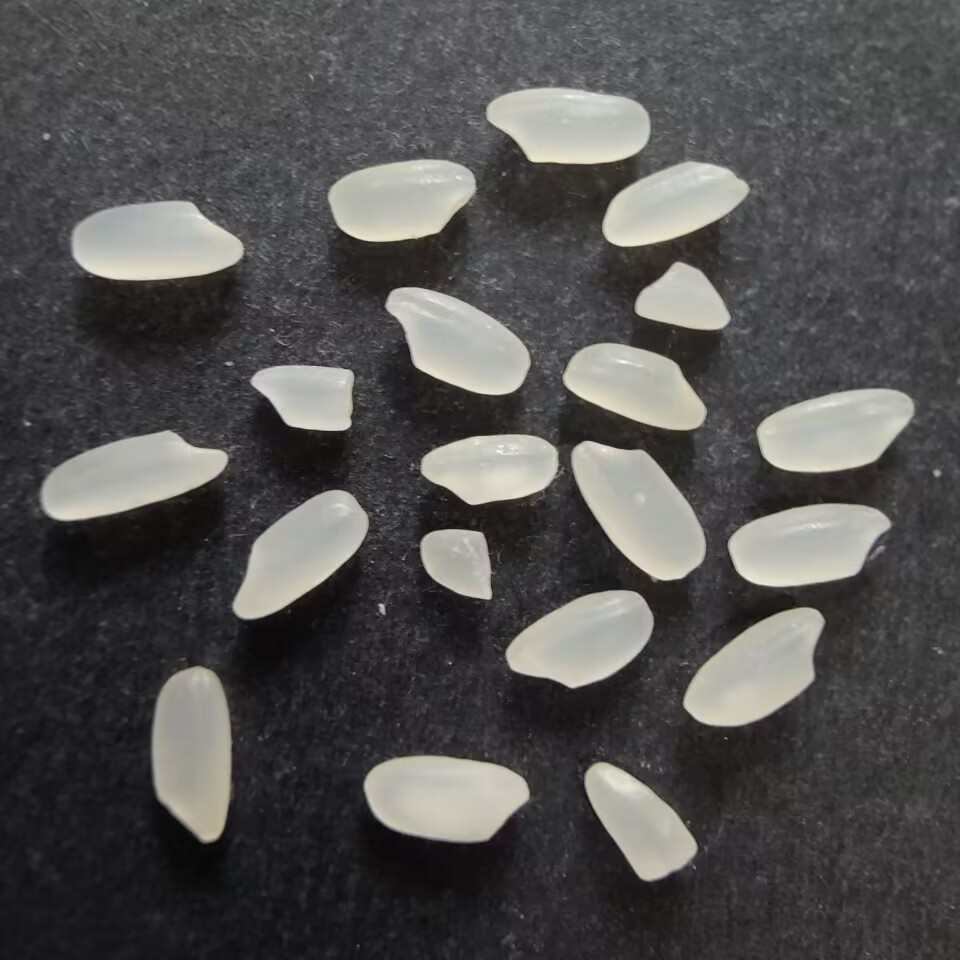broken: (586, 758, 700, 885), (251, 360, 360, 435), (632, 258, 735, 335), (412, 526, 498, 601)
rice: (569, 437, 709, 583), (39, 423, 229, 530), (227, 485, 372, 624), (679, 606, 827, 731), (382, 283, 533, 396), (501, 588, 657, 693), (146, 663, 236, 843), (363, 752, 533, 846), (728, 501, 893, 594), (66, 198, 246, 282), (753, 386, 916, 478), (601, 157, 751, 250), (480, 86, 651, 166), (558, 342, 705, 434), (325, 156, 477, 244), (419, 431, 559, 508)
